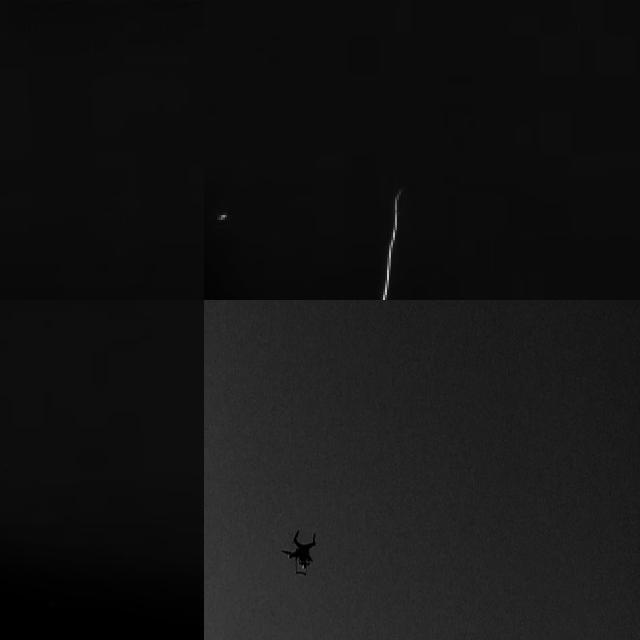0: (37, 592, 69, 622), (211, 205, 237, 237)
drone: (284, 525, 320, 577)
